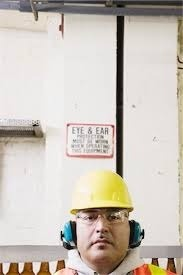helmet: (69, 168, 137, 213)
person with partial safety: (54, 166, 167, 275)
